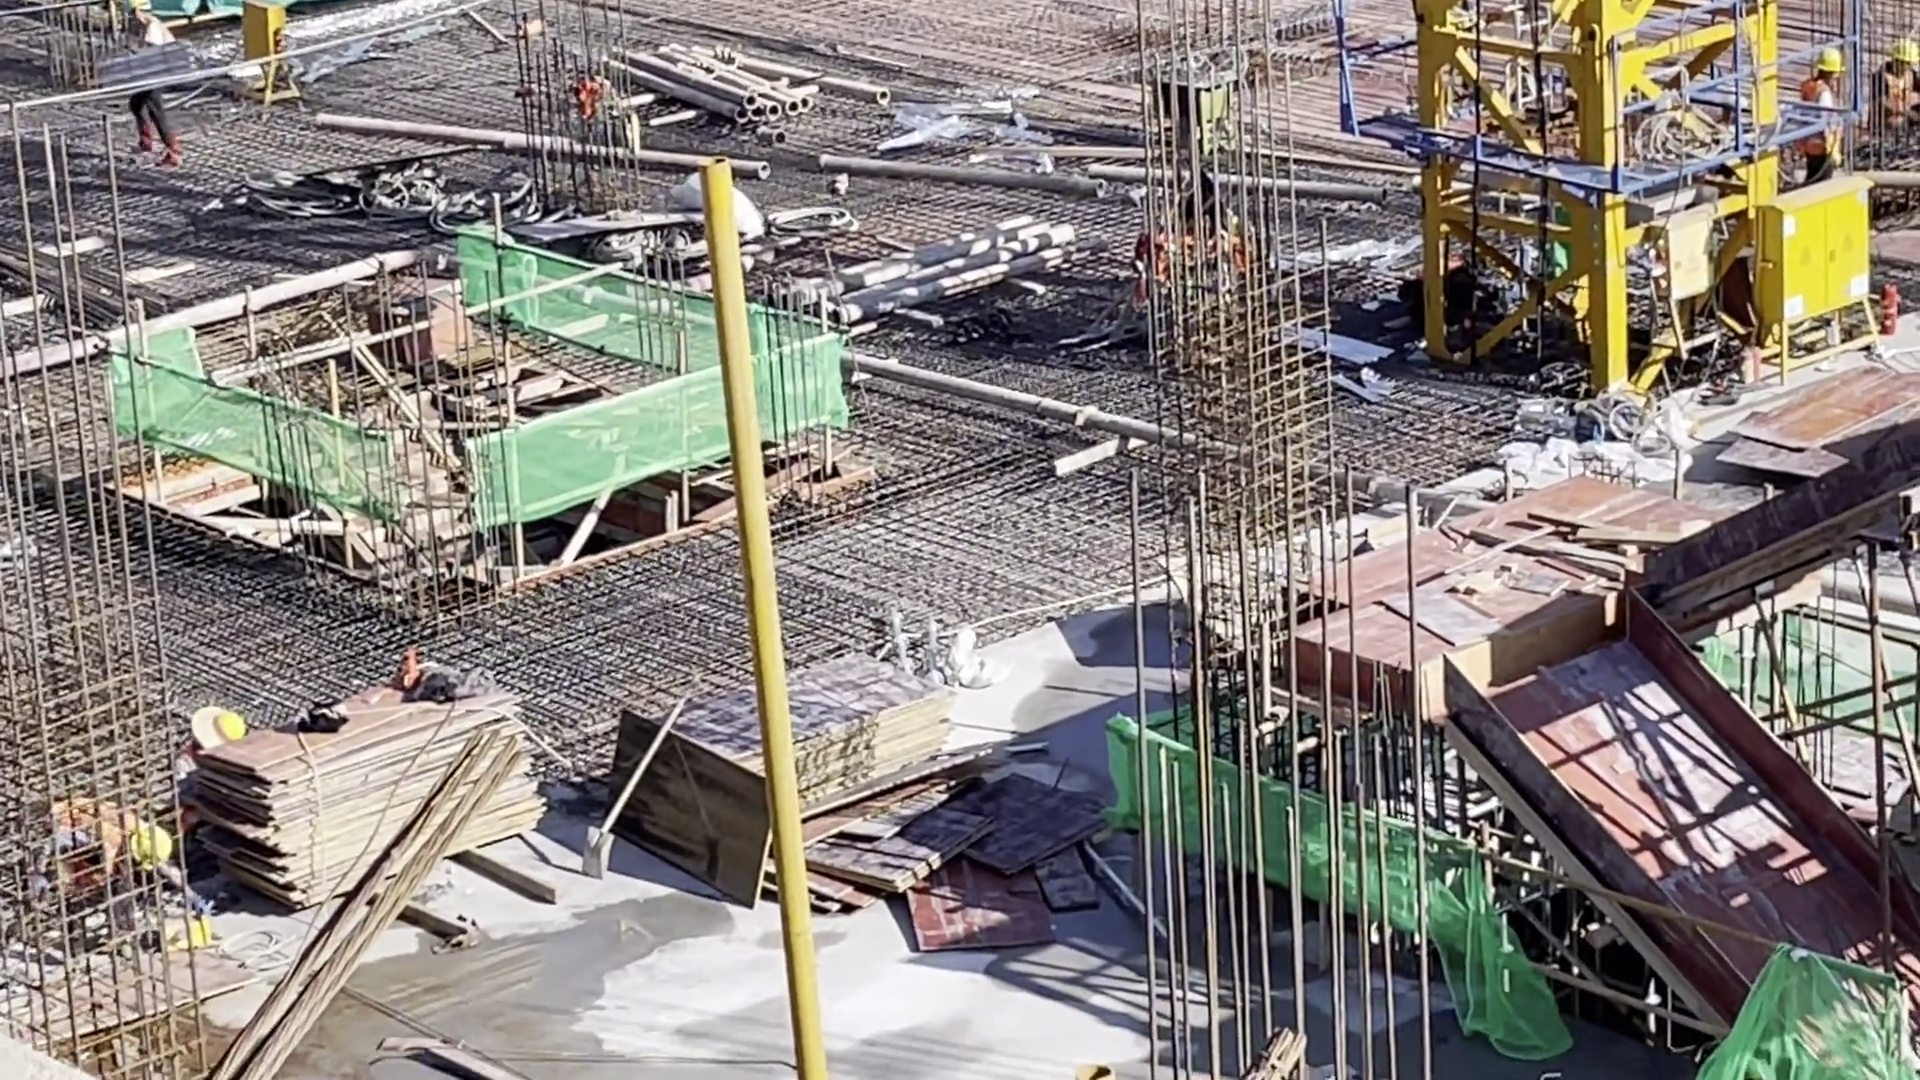board: (190, 668, 546, 904), (665, 649, 942, 837)
ebox: (1756, 171, 1896, 376), (1641, 198, 1738, 367), (238, 1, 299, 107)
handcart: (294, 148, 450, 217)
helmet: (1815, 47, 1844, 71), (1891, 39, 1918, 62), (121, 1, 152, 11)
person: (116, 1, 185, 166), (1797, 47, 1847, 181), (1867, 39, 1918, 147)
vest: (1799, 80, 1839, 157), (1878, 68, 1910, 130)
